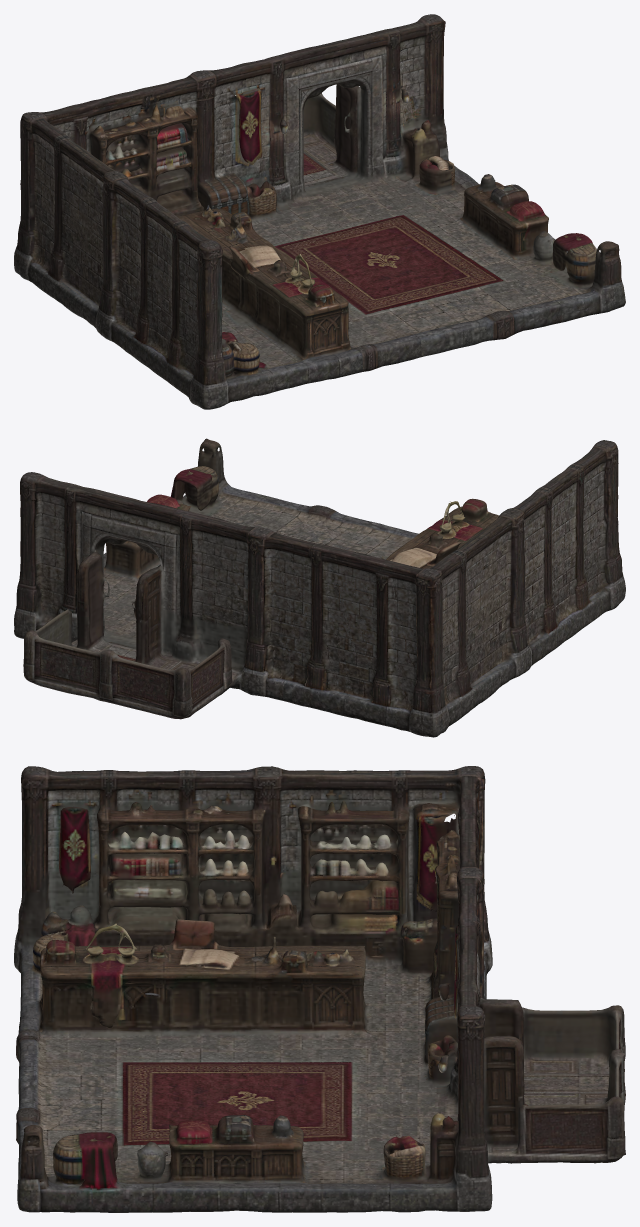
The model's file is medieval shop interior 3d model.glb.
3 renders of one model, top to bottom at view 1: azimuth 30°, elevation 25°; view 2: azimuth 150°, elevation 25°; view 3: azimuth 270°, elevation 25°, orthographic. The views are drawn at different scales.
Visible parts, largest first — view 1: tripo_node_0f064b54; view 2: tripo_node_0f064b54; view 3: tripo_node_0f064b54.
Boxes of the visible parts, x1,y1,x2,y2 form: tripo_node_0f064b54: (14,14,625,409); tripo_node_0f064b54: (14,438,625,737); tripo_node_0f064b54: (14,766,625,1212).
Bounding box in the file's own units: 96.9 × 34.94 × 97.79.
1 material, 1 textured.
